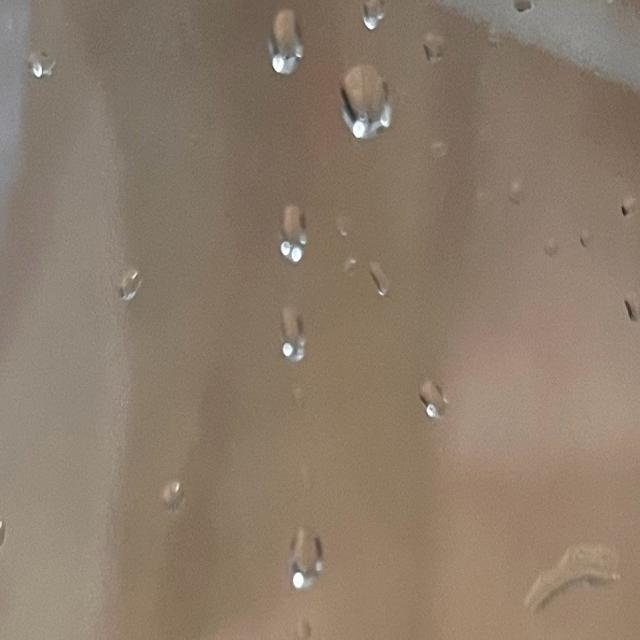raindrop: (331, 50, 397, 147), (99, 244, 158, 320), (258, 4, 308, 86), (270, 305, 318, 385), (280, 514, 329, 582), (276, 203, 322, 274), (408, 364, 454, 426), (160, 457, 200, 514), (414, 11, 447, 72), (355, 0, 401, 38), (24, 39, 57, 91), (616, 268, 640, 326), (369, 246, 393, 298), (335, 245, 364, 282), (572, 211, 598, 249), (499, 175, 523, 211), (548, 230, 568, 258)
